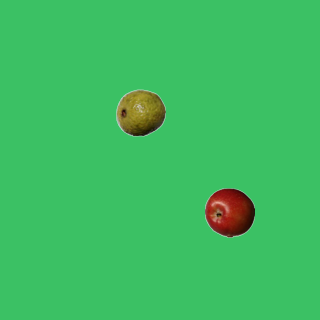Apple Braeburn: (204, 187, 254, 237)
Guava: (115, 87, 165, 137)
